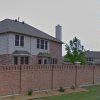Chimney: (46, 17, 78, 54)
